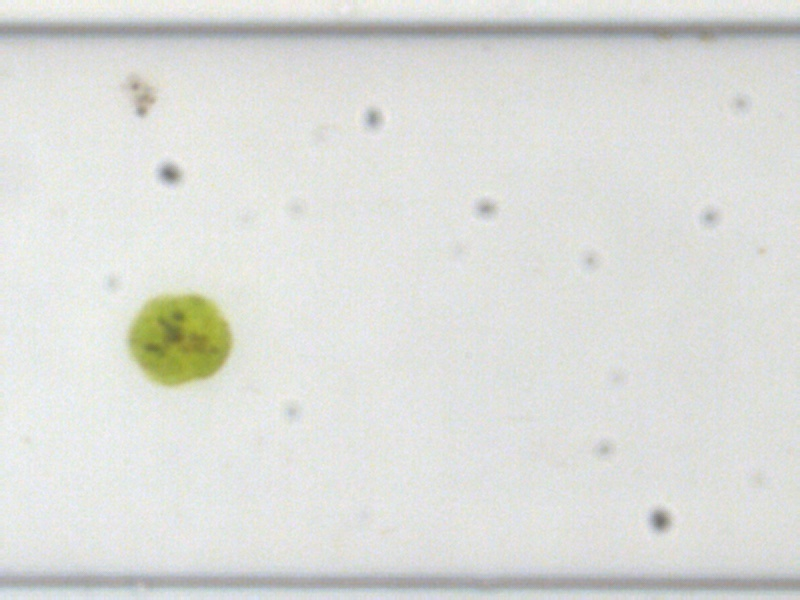Haematococcus: (122, 288, 233, 389)
